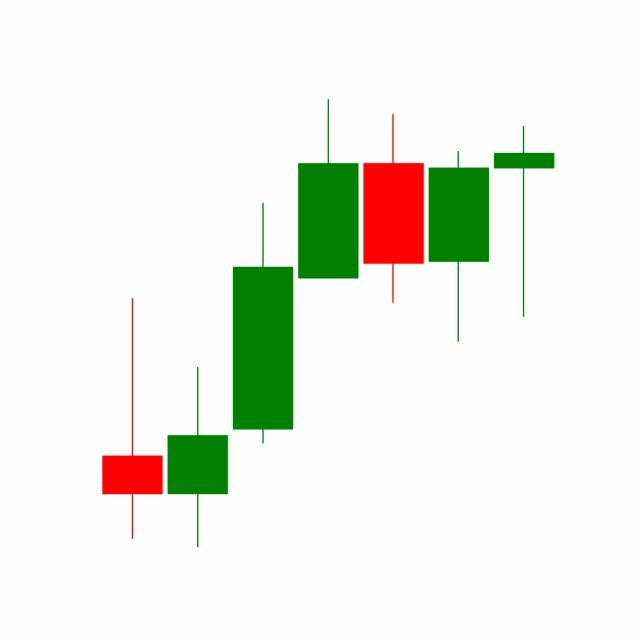Three Inside Up-Down: (360, 112, 556, 346)
